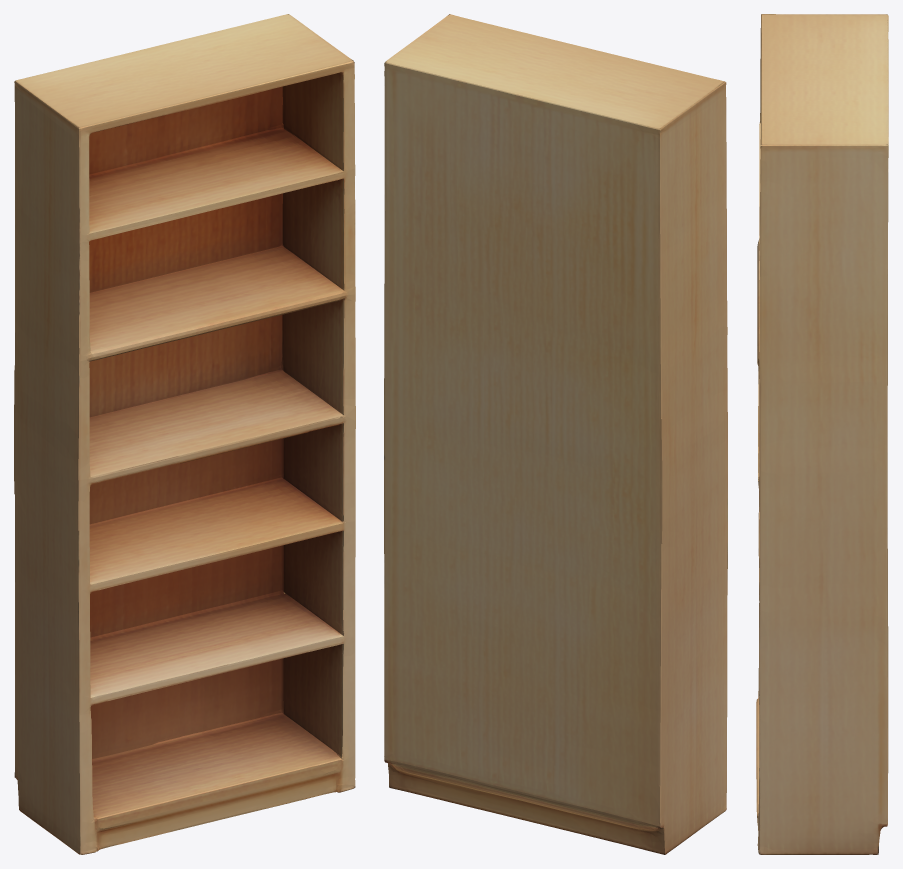
Rendered from Bookshelf_3D.glb.
The picture shows the model from 3 angles, left to right: view 1: azimuth 30°, elevation 25°; view 2: azimuth 150°, elevation 25°; view 3: azimuth 270°, elevation 25°; orthographic projection. The views are drawn at different scales.
Parts seen in each view (by area): view 1: world; view 2: world; view 3: world.
Part boxes in pixels (<box>): world: <box>14,14,355,854</box>; world: <box>384,14,727,854</box>; world: <box>756,14,888,854</box>.
Bounding box in the file's own units: 0.4003 × 1 × 0.1694.
Materials: 1 (1 with a texture image).
